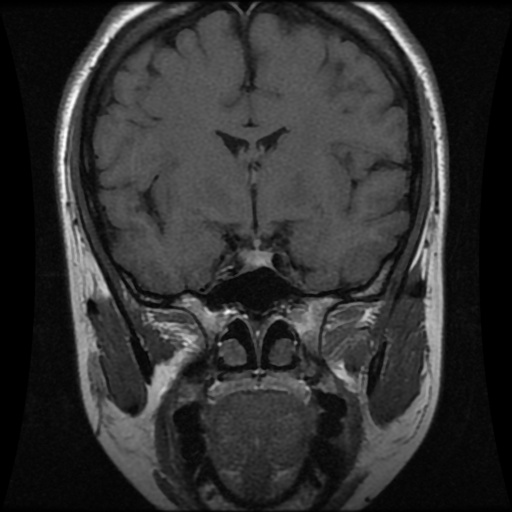pituitary: (246, 249, 270, 266)
